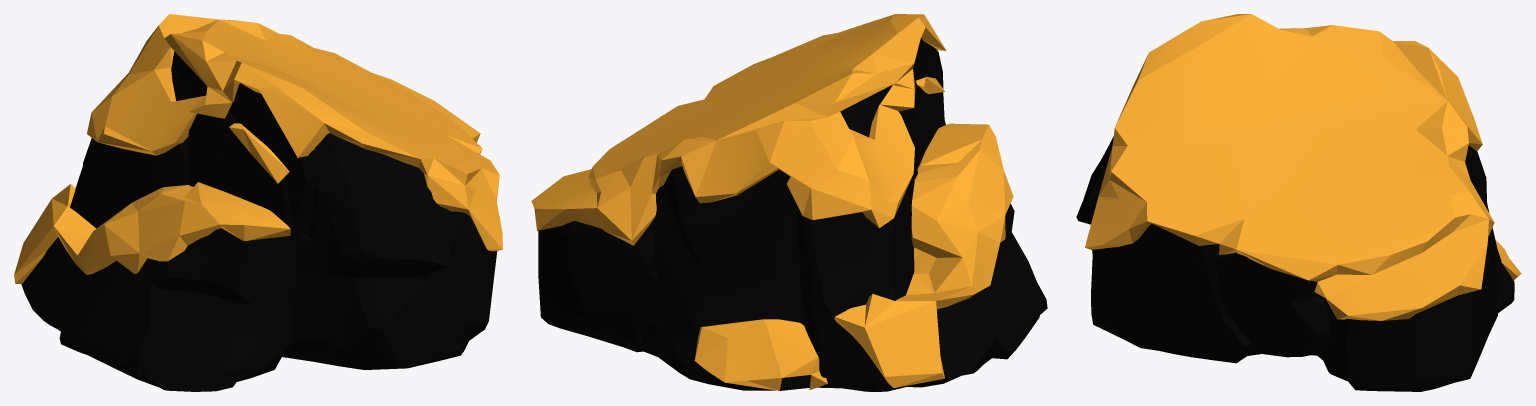
File: SM_Iceberg_Medium_B_Snow.fbx
3 views of the same model, side by side, from view 1: azimuth 30°, elevation 25°; view 2: azimuth 150°, elevation 25°; view 3: azimuth 270°, elevation 25° (orthographic). The views are drawn at different scales.
Parts seen in each view (by area): view 1: iceberg-medium-b-snow; view 2: iceberg-medium-b-snow; view 3: iceberg-medium-b-snow.
Boxes of the visible parts, box(x1,y1,x2,y2) form: iceberg-medium-b-snow: box(14, 14, 502, 391); iceberg-medium-b-snow: box(531, 14, 1047, 391); iceberg-medium-b-snow: box(1076, 14, 1521, 391).
Size of the model in its own units: 13 by 7.83 by 12.13.
